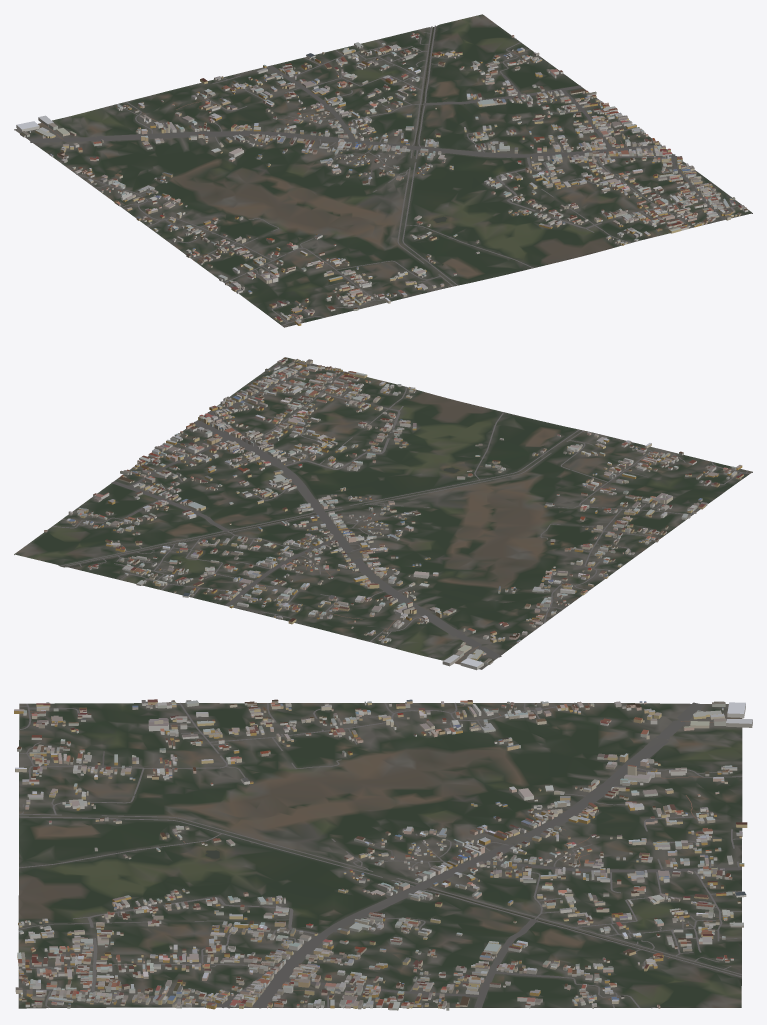
The picture shows the model from 3 angles, top to bottom: view 1: azimuth 30°, elevation 25°; view 2: azimuth 150°, elevation 25°; view 3: azimuth 270°, elevation 25°; orthographic projection. The views are drawn at different scales.
Visible parts, largest first — view 1: ground, buildings, roads; view 2: ground, buildings, roads; view 3: ground, buildings, roads.
Part boxes in pixels (x1=…): ground: x1=14, y1=14, x2=752, y2=327; buildings: x1=16, y1=32, x2=748, y2=325; roads: x1=29, y1=25, x2=741, y2=326; ground: x1=14, y1=357, x2=752, y2=669; buildings: x1=44, y1=357, x2=743, y2=670; roads: x1=47, y1=363, x2=749, y2=663; ground: x1=18, y1=703, x2=742, y2=1008; buildings: x1=14, y1=699, x2=752, y2=1010; roads: x1=18, y1=702, x2=742, y2=1008.
Bounding box in the file's own units: 1415 × 32.49 × 1431.
